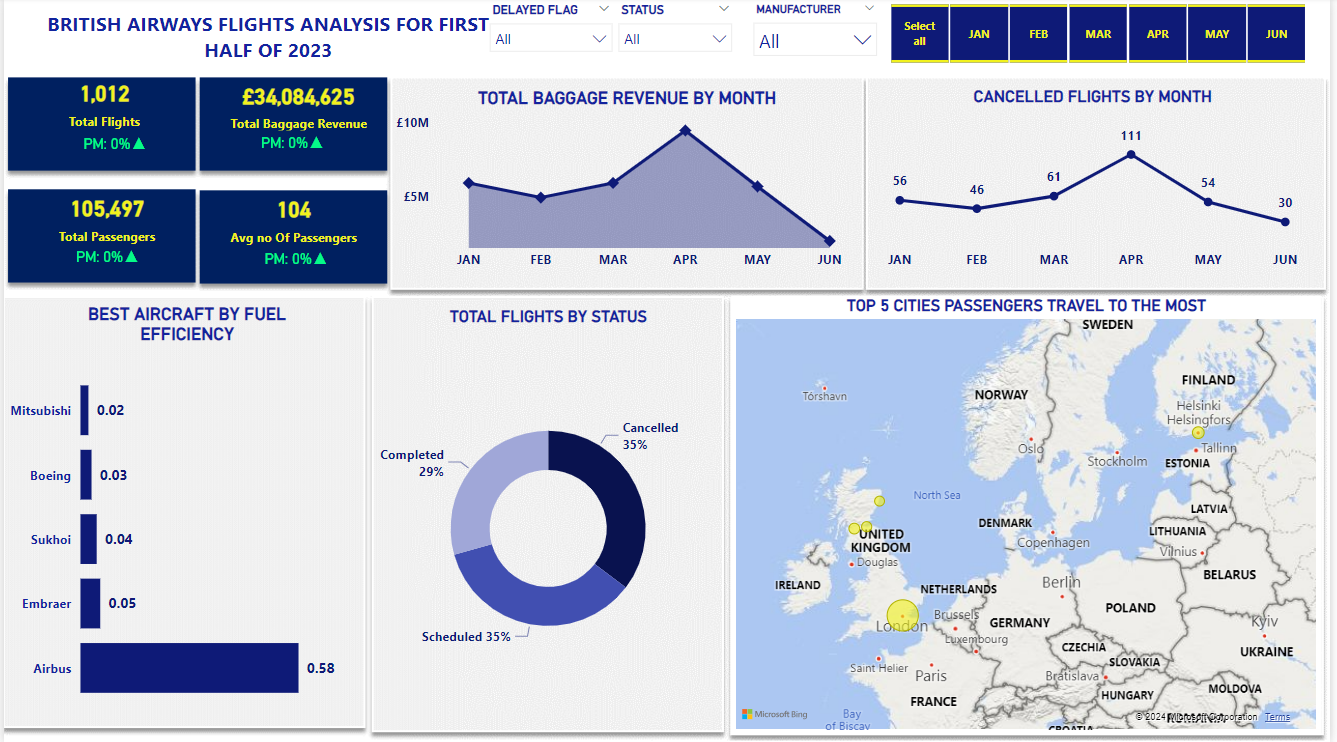

Layout of this report page (visuals, bound fields, positions):
{"tool":"powerbi","page":{"name":"BA FLIGHT ANALYSIS","canvas":[1280,720],"ordinal":0},"visuals":[{"type":"card","fields":{"Values":["DAX Measures.Total Flights"]},"box":[18.1,67.6,158,67.6],"z":0},{"type":"card","fields":{"Values":["DAX Measures.Total Baggage Revenue"]},"box":[208.7,73.6,152,60.3],"z":1000},{"type":"card","fields":{"Values":["DAX Measures.Total Passengers"]},"box":[26.5,181,146,62.7],"z":2000},{"type":"card","fields":{"Values":["DAX Measures.AVG No Of Passengers"]},"box":[211.1,182.2,137.5,62.7],"z":3000},{"type":"card","fields":{"Values":["DAX Measures.Baggage Revenue Growth"]},"box":[211.1,126.7,135.1,31.4],"z":4000},{"type":"card","fields":{"Values":["DAX Measures.Flight Growth %"]},"box":[48.3,123.1,118.2,39.8],"z":5000},{"type":"clusteredBarChart","title":"BEST AIRCRAFT BY FUEL EFFICIENCY","fields":{"Category":["public ba_fuel_efficiency.manufacturer"],"Y":["DAX Measures.Avg Fuel Efficiency"]},"box":[0,295.6,353.5,407.8],"z":6000},{"type":"donutChart","title":"TOTAL FLIGHTS BY STATUS","fields":{"Category":["public ba_flights.status"],"Y":["DAX Measures.Total Flights"]},"box":[360.7,299.2,329.4,407.8],"z":7000},{"type":"areaChart","title":"TOTAL BAGGAGE REVENUE BY MONTH","fields":{"Y":["DAX Measures.Total Baggage Revenue"],"Category":["Calendar.Month"]},"box":[372.8,86.9,457.2,184.6],"z":8000},{"type":"map","title":"TOP 5 CITIES PASSENGERS TRAVEL TO THE MOST","fields":{"Size":["DAX Measures.Total Passengers"],"Category":["public ba_flight_routes.arrival_city"]},"box":[702.1,288.3,569.4,423.5],"z":9000},{"type":"slicer","fields":{"Values":["Calendar.Month"]},"box":[830,0,450,70],"z":10000},{"type":"lineChart","title":"CANCELLED FLIGHTS BY MONTH","fields":{"Category":["Calendar.Month"],"Y":["DAX Measures.Total Flights"],"Series":["public ba_flights.status"]},"box":[830,86.9,441.6,184.6],"z":11000},{"type":"textbox","box":[12.1,8.4,486.2,61.5],"z":12000},{"type":"slicer","fields":{"Values":["public ba_flights.status"]},"box":[582.7,0,130.3,68.8],"z":13000},{"type":"slicer","fields":{"Values":["public ba_aircrafts.manufacturer"]},"box":[713,0,139.9,70],"z":14000},{"type":"card","fields":{"Values":["Calendar.Passenger Growth %"]},"box":[41,230.4,118.2,43.4],"z":15000},{"type":"card","fields":{"Values":["DAX Measures.Avg No of Passengers Growth %"]},"box":[211.1,228,142.4,51.9],"z":16000},{"type":"slicer","fields":{"Values":["public ba_flights.delayed_flag_2"]},"box":[458.4,0,138.7,86.9],"z":17000}]}

Visuals, with their boxes in screenshot pixels (x1, y1, x2, y2), scaled from the page's 1280x720 canvas onto the 1337x742 screenshot:
card - DAX Measures.Total Flights: l=19, t=70, r=184, b=139
card - DAX Measures.Total Baggage Revenue: l=218, t=76, r=377, b=138
card - DAX Measures.Total Passengers: l=28, t=187, r=180, b=251
card - DAX Measures.AVG No Of Passengers: l=221, t=188, r=364, b=252
card - DAX Measures.Baggage Revenue Growth: l=221, t=131, r=362, b=163
card - DAX Measures.Flight Growth %: l=50, t=127, r=174, b=168
"BEST AIRCRAFT BY FUEL EFFICIENCY" clusteredBarChart: l=0, t=305, r=369, b=725
"TOTAL FLIGHTS BY STATUS" donutChart: l=377, t=308, r=721, b=729
"TOTAL BAGGAGE REVENUE BY MONTH" areaChart: l=389, t=90, r=867, b=280
"TOP 5 CITIES PASSENGERS TRAVEL TO THE MOST" map: l=733, t=297, r=1328, b=734
slicer - Calendar.Month: l=867, t=0, r=1336, b=72
"CANCELLED FLIGHTS BY MONTH" lineChart: l=867, t=90, r=1328, b=280
textbox: l=13, t=9, r=520, b=72
slicer - public ba_flights.status: l=609, t=0, r=745, b=71
slicer - public ba_aircrafts.manufacturer: l=745, t=0, r=891, b=72
card - Calendar.Passenger Growth %: l=43, t=237, r=166, b=282
card - DAX Measures.Avg No of Passengers Growth %: l=221, t=235, r=369, b=288
slicer - public ba_flights.delayed_flag_2: l=479, t=0, r=624, b=90
